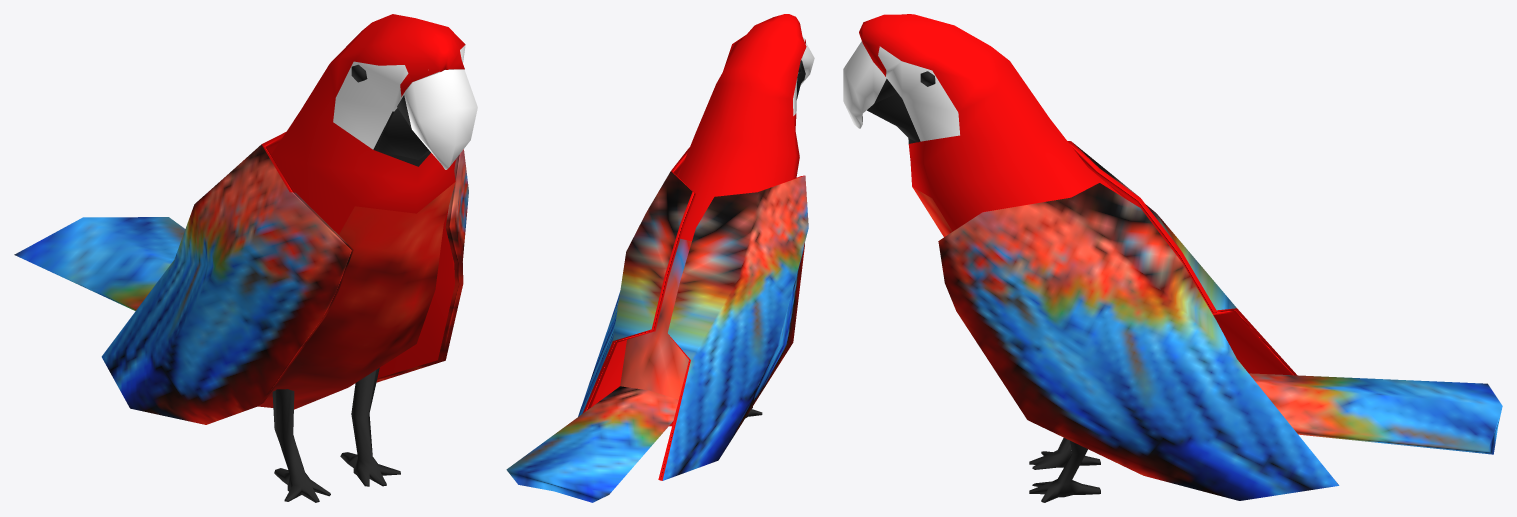
The model's file is b0877ebc-0dd1-4087-8ccf-fdeabf03557f.glb.
3 renders of one model, left to right at view 1: azimuth 30°, elevation 25°; view 2: azimuth 150°, elevation 25°; view 3: azimuth 270°, elevation 25°, orthographic. The views are drawn at different scales.
Parts seen in each view (by area): view 1: Macaw01; view 2: Macaw01; view 3: Macaw01.
Boxes of the visible parts, bbox=[...] form: Macaw01: bbox=[14, 14, 477, 502]; Macaw01: bbox=[506, 14, 814, 502]; Macaw01: bbox=[843, 14, 1502, 502].
Size of what is drawn, in the model's own units: 0.2695 by 0.5527 by 0.7122.
1 material, 1 textured.
